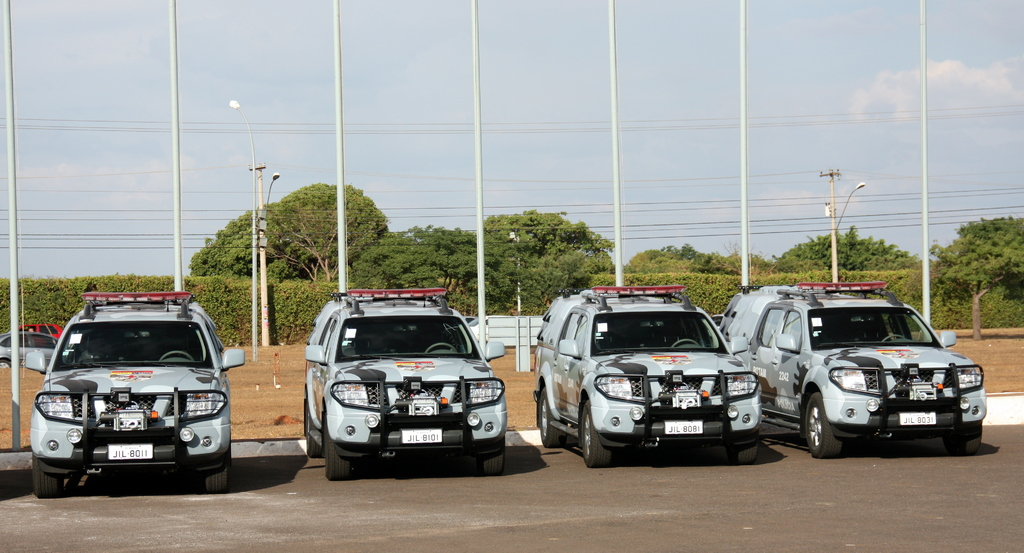Car: (25, 301, 234, 497), (0, 327, 88, 369), (11, 325, 65, 337)
